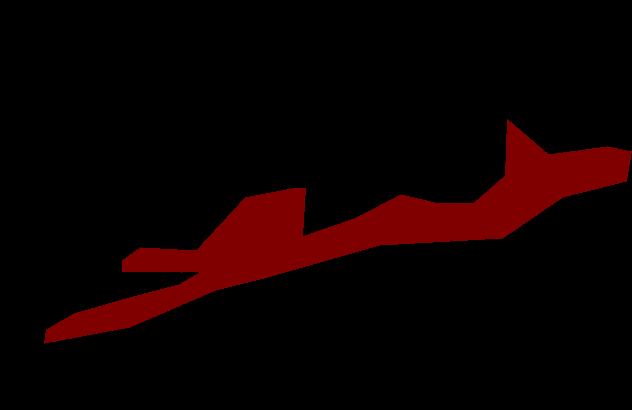fire: (44, 119, 631, 343)
